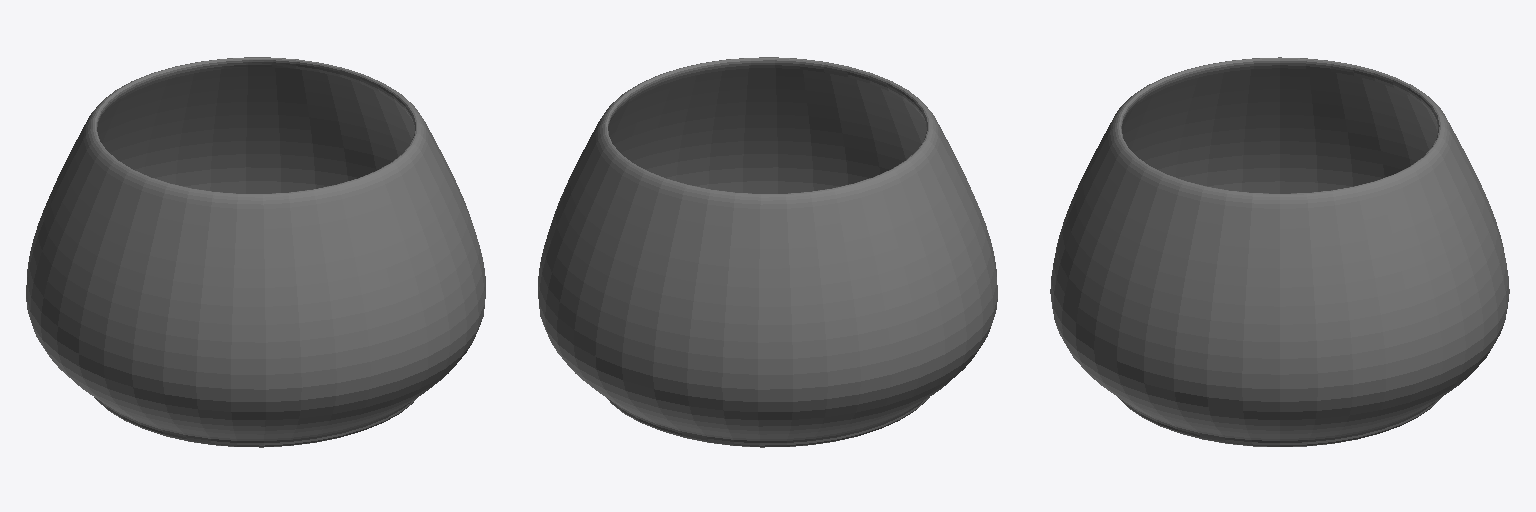
File: original-1.obj
The picture shows the model from 3 angles: view 1: azimuth 30°, elevation 25°; view 2: azimuth 150°, elevation 25°; view 3: azimuth 270°, elevation 25°; orthographic projection.
Parts seen in each view (by area): view 1: mesh2/mesh2-geometry#mesh2-geometry; view 2: mesh2/mesh2-geometry#mesh2-geometry; view 3: mesh2/mesh2-geometry#mesh2-geometry.
Part boxes in pixels (bbox=[...]): mesh2/mesh2-geometry#mesh2-geometry: bbox=[26, 57, 485, 447]; mesh2/mesh2-geometry#mesh2-geometry: bbox=[538, 57, 997, 447]; mesh2/mesh2-geometry#mesh2-geometry: bbox=[1050, 57, 1509, 446].
Size of the model in its own units: 1.19 by 0.7457 by 1.19.